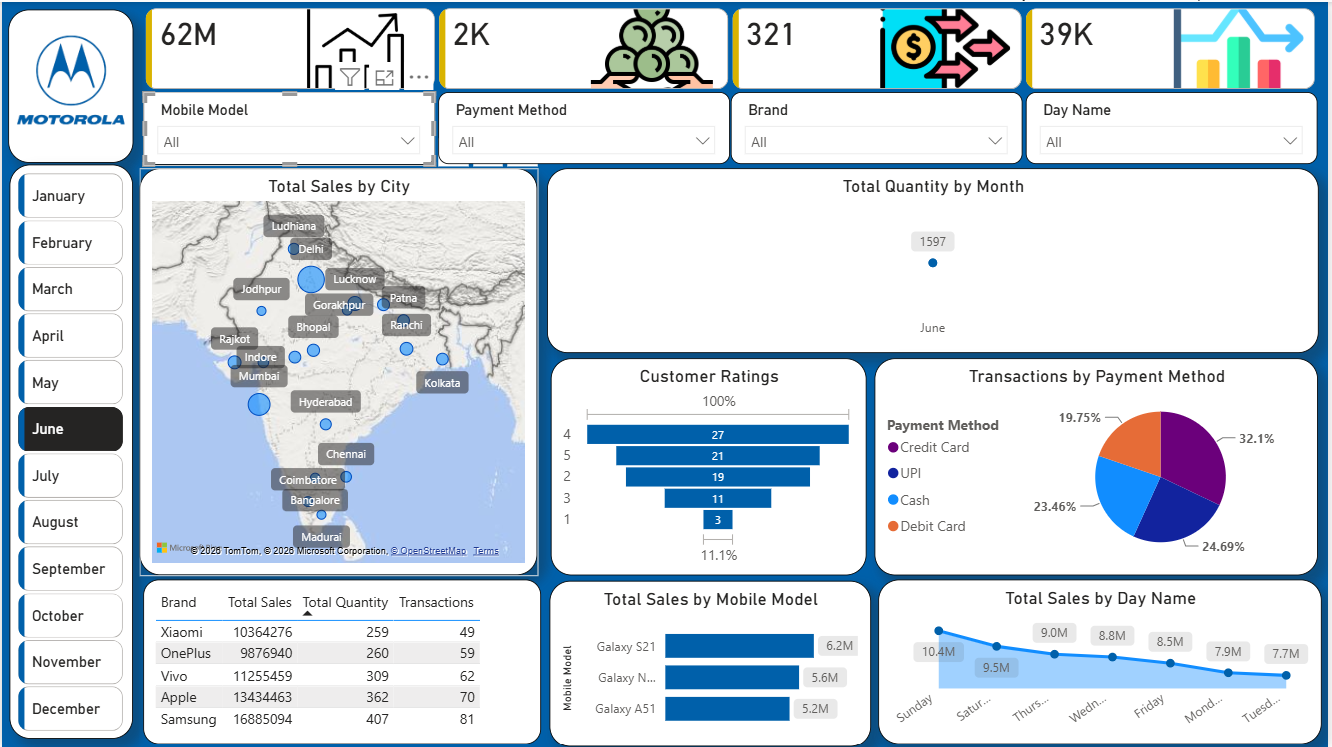

The dashboard page shown, as its layout file describes it:
{"tool":"powerbi","page":{"name":"Page 1","canvas":[1280,720],"ordinal":0},"visuals":[{"type":"shape","box":[5.5,6.9,120.8,148.2],"z":0},{"type":"image","box":[9.6,16.5,113.9,116.6],"z":1000},{"type":"shape","box":[6.9,156.4,119.4,554.4],"z":2000},{"type":"advancedSlicerVisual","fields":{"Values":["Sales_Data.Date.Variation.Date Hierarchy.Month"]},"box":[11,160.5,111.1,548.9],"z":3000},{"type":"cardVisual","fields":{"Data":["Sales_Data.Total Sales","Sales_Data.Total Quantity","Sales_Data.Transactions","Sales_Data.Average"]},"box":[134,5.6,1140.1,83.7],"z":4000},{"type":"map","fields":{"Category":["Sales_Data.City"],"Size":["Sales_Data.Total Sales"]},"box":[132.9,160.8,384.1,393.1],"z":5000},{"type":"lineChart","fields":{"Y":["Sales_Data.Total Quantity"],"Category":["Sales_Data.Date.Variation.Date Hierarchy.Month","Sales_Data.Date.Variation.Date Hierarchy.Day"]},"box":[525.9,160.8,744.8,178.7],"z":6000},{"type":"clusteredBarChart","fields":{"Category":["Sales_Data.Mobile Model"],"Y":["Sales_Data.Total Sales"]},"box":[528.3,558.5,310.1,160.5],"z":7000},{"type":"pieChart","fields":{"Category":["Sales_Data.Payment Method"],"Y":["Sales_Data.Transactions"]},"box":[842.5,344.4,428.1,209.9],"z":8000},{"type":"funnel","title":"Customer Ratings","fields":{"Category":["Sales_Data.Customer Ratings"],"Y":["CountNonNull(Sales_Data.Customer Ratings)"]},"box":[529.7,344.4,304.6,209.9],"z":9000},{"type":"areaChart","fields":{"Category":["Sales_Data.Day Name"],"Y":["Sales_Data.Total Sales"]},"box":[845.3,557.1,428.1,159.2],"z":10000},{"type":"tableEx","fields":{"Values":["Sales_Data.Brand","Sales_Data.Total Sales","Sales_Data.Total Quantity","Sales_Data.Transactions"]},"box":[135.8,557.1,384.2,159.2],"z":11000},{"type":"slicer","fields":{"Values":["Sales_Data.Mobile Model"]},"box":[136.2,87.1,281.4,70.3],"z":12000},{"type":"slicer","fields":{"Values":["Sales_Data.Payment Method"]},"box":[421,87.1,281.4,69.2],"z":13000},{"type":"slicer","fields":{"Values":["Sales_Data.Brand"]},"box":[703.5,87.1,281.4,69.2],"z":14000},{"type":"slicer","fields":{"Values":["Sales_Data.Day Name"]},"box":[988.2,87.1,281.4,69.2],"z":15000}]}

Visuals, with their boxes in screenshot pixels (x1, y1, x2, y2), scaled from the page's 1280x720 canvas onto the 1332x747 screenshot:
shape: 6 7 131 161
image: 10 17 129 138
shape: 7 162 131 737
advancedSlicerVisual - Sales_Data.Date.Variation.Date Hierarchy.Month: 11 167 127 736
cardVisual - Sales_Data.Total Sales x Sales_Data.Total Quantity: 139 6 1326 93
map - Sales_Data.City x Sales_Data.Total Sales: 138 167 538 575
lineChart - Sales_Data.Total Quantity x Sales_Data.Date.Variation.Date Hierarchy.Month: 547 167 1322 352
clusteredBarChart - Sales_Data.Mobile Model x Sales_Data.Total Sales: 550 579 872 746
pieChart - Sales_Data.Payment Method x Sales_Data.Transactions: 877 357 1322 575
"Customer Ratings" funnel: 551 357 868 575
areaChart - Sales_Data.Day Name x Sales_Data.Total Sales: 880 578 1325 743
tableEx - Sales_Data.Brand x Sales_Data.Total Sales: 141 578 541 743
slicer - Sales_Data.Mobile Model: 142 90 435 163
slicer - Sales_Data.Payment Method: 438 90 731 162
slicer - Sales_Data.Brand: 732 90 1025 162
slicer - Sales_Data.Day Name: 1028 90 1321 162
